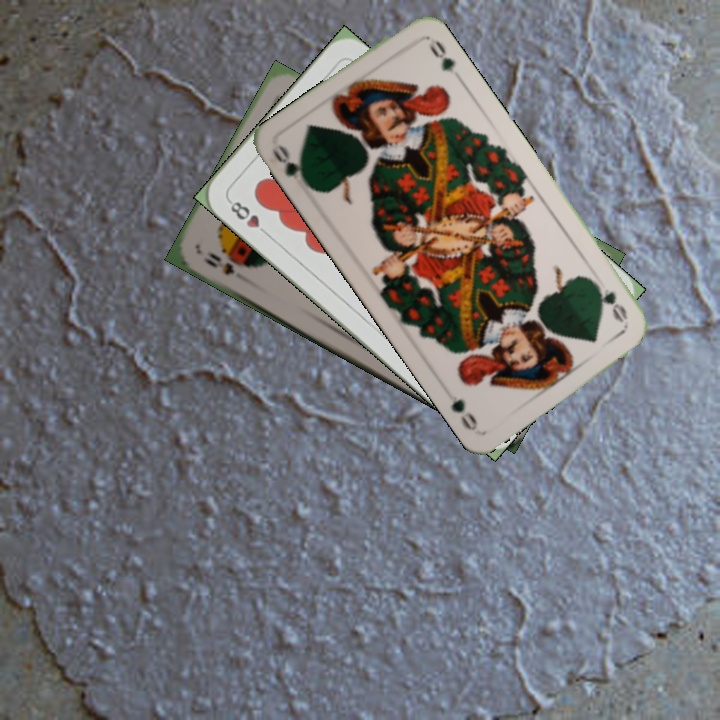GO: (268, 141, 317, 191), (588, 276, 631, 326)
H8: (224, 195, 272, 239)
SO: (199, 247, 246, 278)
